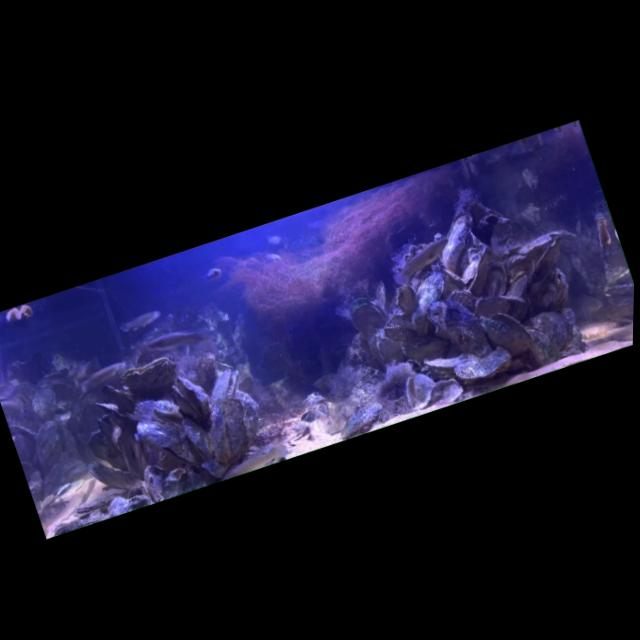Oyster-Closed: (127, 387, 202, 482), (421, 286, 496, 370), (398, 268, 459, 339), (429, 208, 488, 276), (450, 341, 517, 391), (217, 394, 261, 460), (523, 305, 576, 358), (454, 242, 503, 299), (70, 481, 133, 522), (197, 407, 240, 466), (179, 411, 220, 469), (520, 317, 564, 369), (423, 342, 480, 381), (400, 331, 452, 369), (428, 253, 469, 299), (94, 394, 130, 431)
Oyster-Indeterminate: (24, 415, 76, 480), (80, 423, 132, 483), (499, 227, 567, 271), (523, 234, 574, 286), (391, 237, 444, 284), (232, 386, 271, 447), (7, 418, 46, 469), (100, 375, 143, 421), (473, 255, 515, 300), (86, 452, 128, 496), (444, 281, 484, 322), (472, 287, 513, 324), (426, 374, 467, 410), (139, 461, 173, 504), (499, 267, 536, 305), (390, 281, 422, 319), (381, 319, 418, 348)
Oyster-Open: (475, 299, 538, 365), (119, 351, 182, 402), (169, 368, 216, 426), (342, 288, 393, 341), (399, 368, 444, 413), (202, 366, 247, 407), (0, 382, 33, 420), (297, 406, 320, 425)
